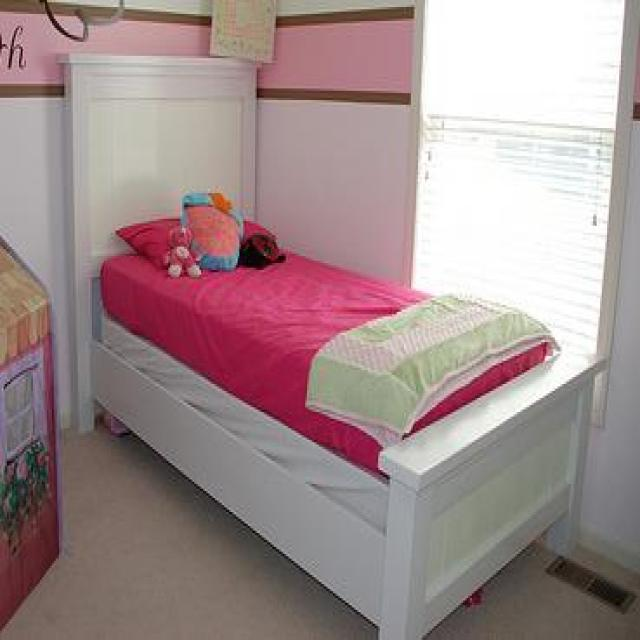bed: (58, 49, 612, 640)
